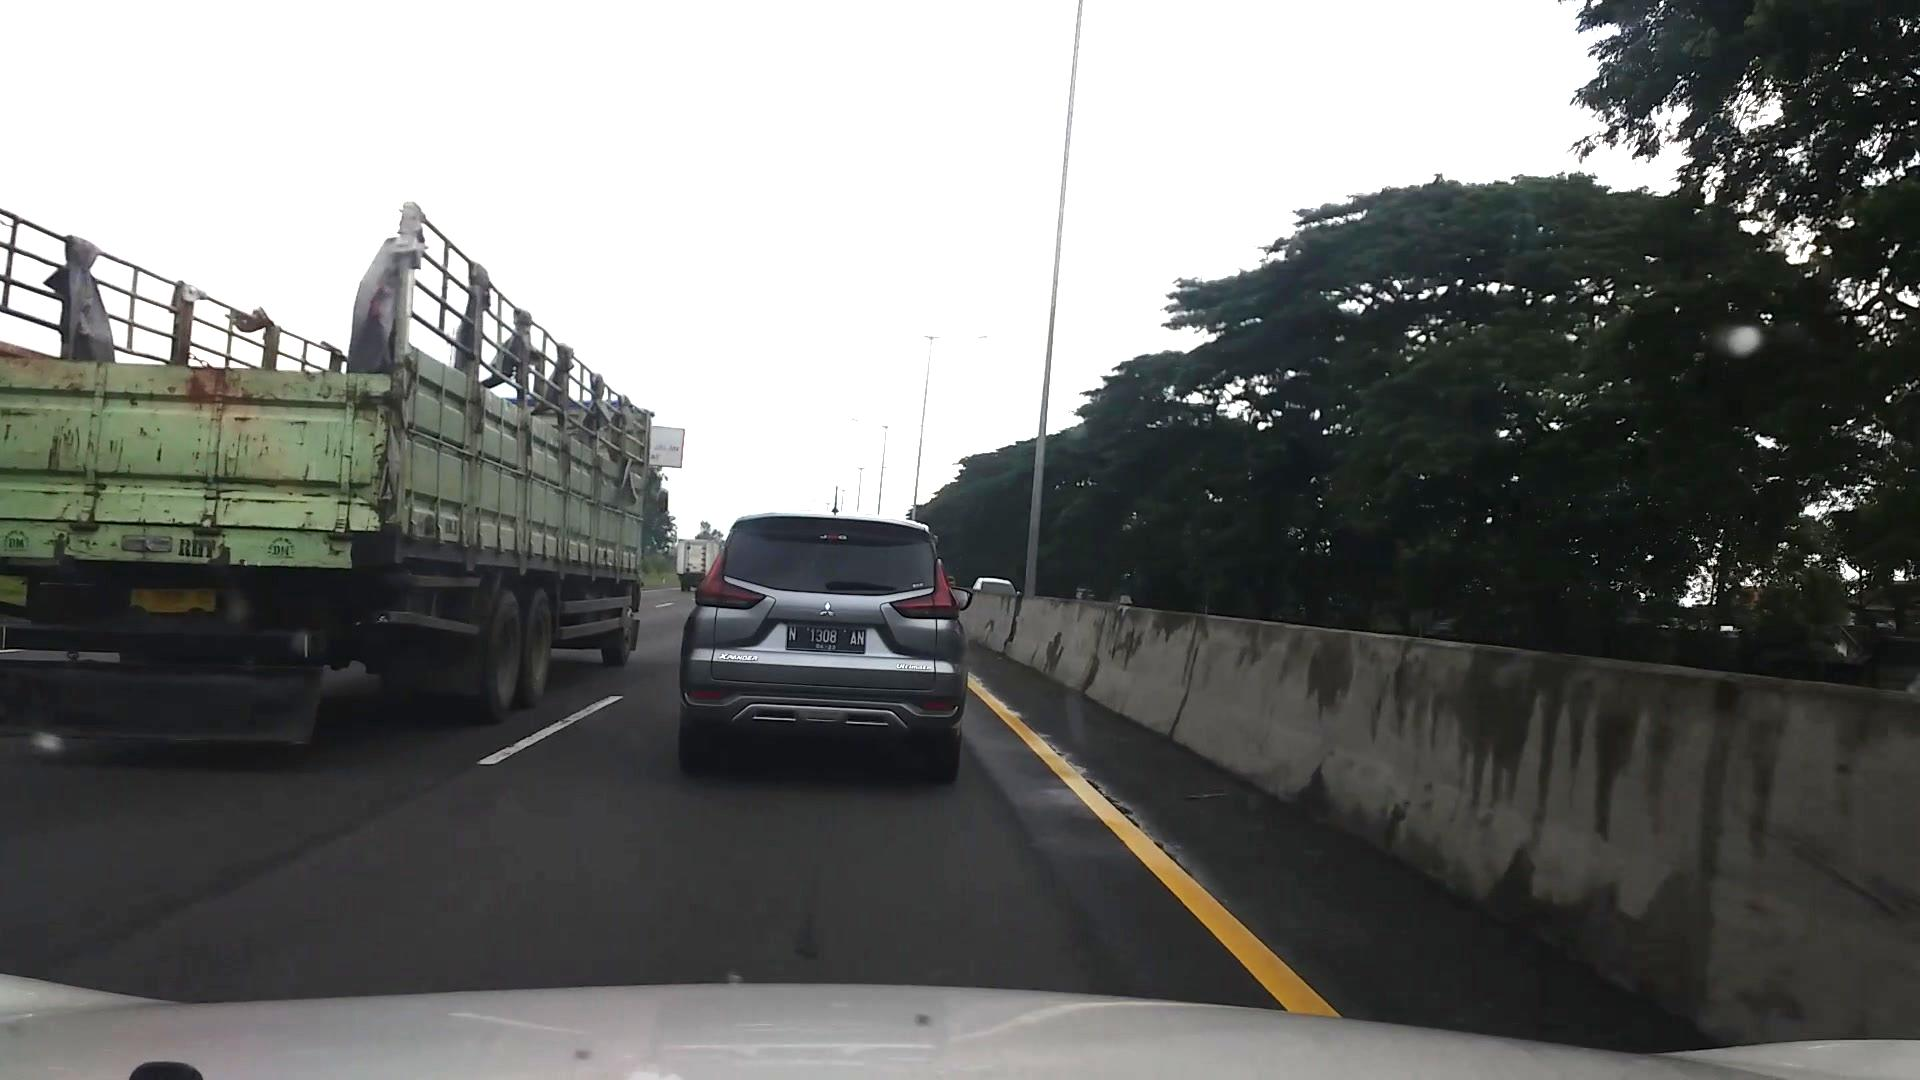plate_positive: (786, 622, 866, 655)
